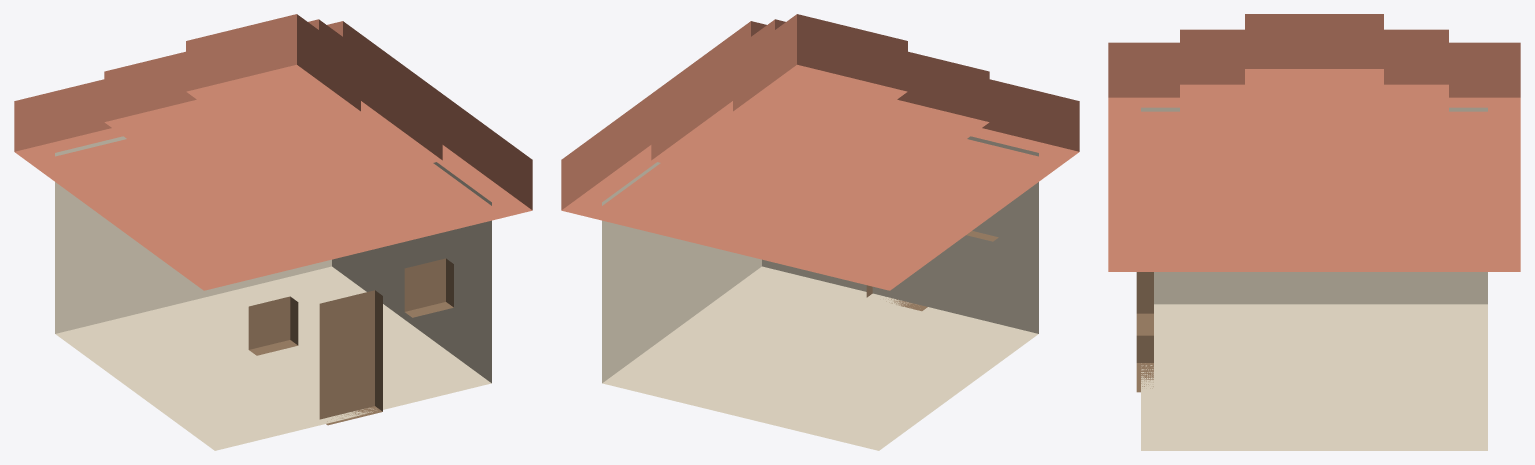
File: bld-hut-a.glb
3 views of the same model, side by side, from view 1: azimuth 30°, elevation 25°; view 2: azimuth 150°, elevation 25°; view 3: azimuth 270°, elevation 25° (orthographic). The views are drawn at different scales.
Bounding box in the file's own units: 1.9 × 1.7 × 1.9.
